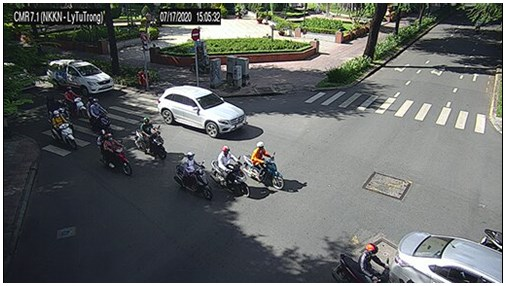xe_hoi: (389, 231, 501, 283), (160, 84, 247, 138), (48, 59, 114, 96)
xe_may: (331, 243, 390, 283), (210, 145, 251, 199), (242, 142, 285, 190), (173, 151, 213, 202), (96, 129, 133, 176), (134, 116, 167, 160), (52, 110, 78, 151), (86, 97, 113, 135), (64, 88, 86, 117), (479, 229, 502, 251)
